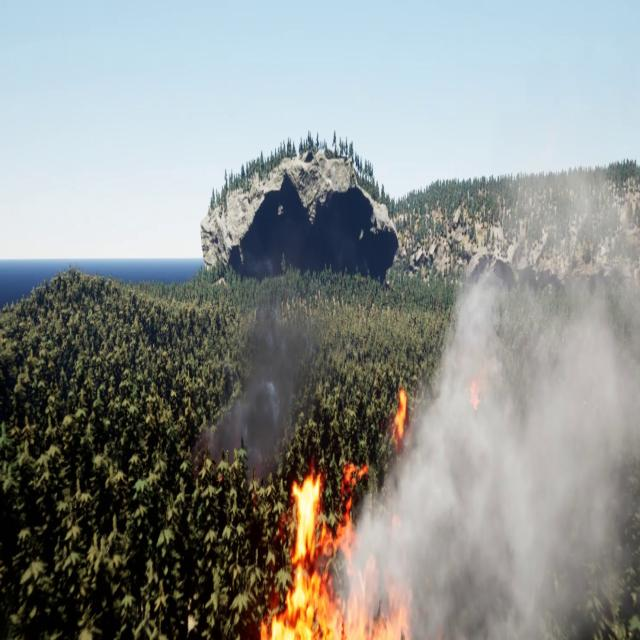fire: (260, 392, 417, 639)
smoke: (333, 111, 640, 639), (202, 303, 316, 490)
